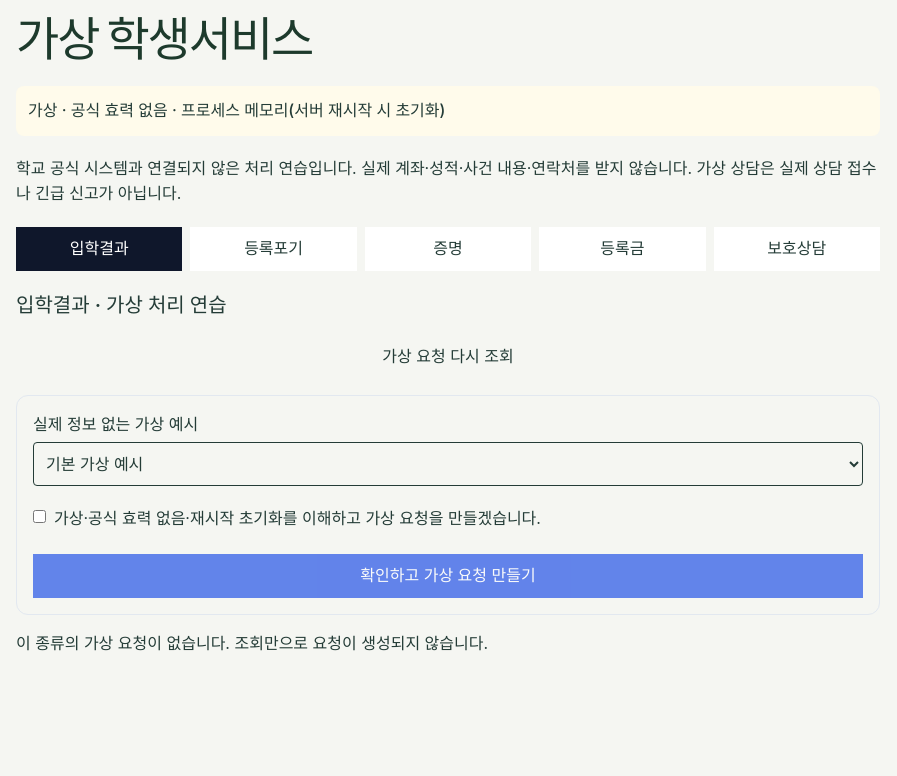
it: DemoStudentServices › creates only after consent and reports completion only after a fresh GET
Expected: the text "이 종류의 가상 요청이 없습니다. 조회만으로 요청이 생성되지 않습니다." is shown, [16, 632, 488, 652]
Select "추가 확인 가상 예시" in the dropdown at [448, 464], box [33, 442, 863, 486]
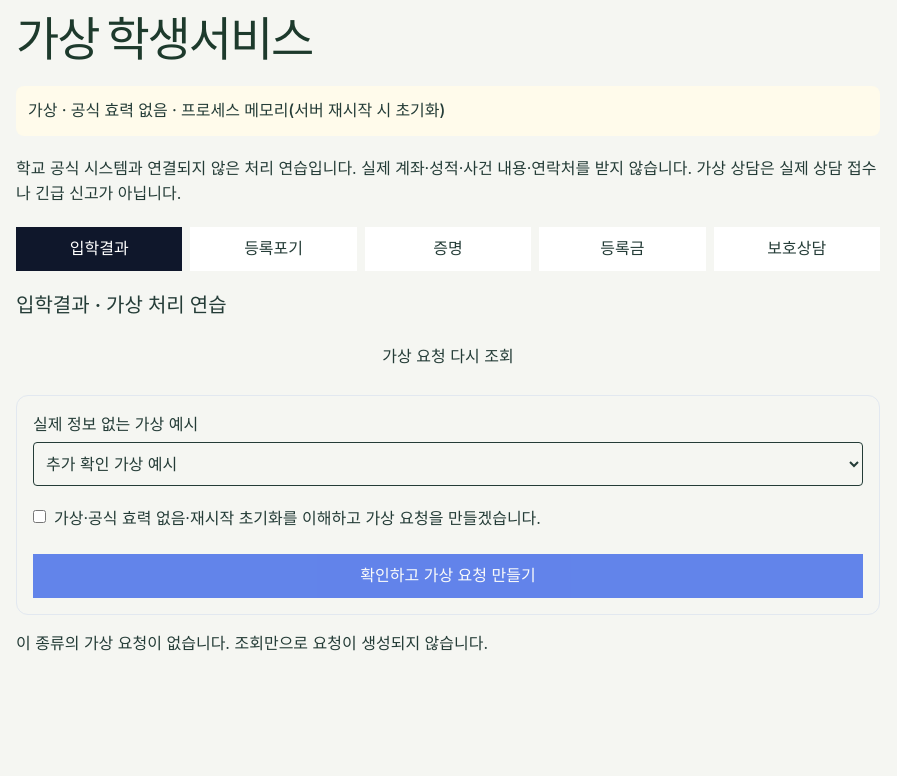
Click the checkbox at [40, 516], box [33, 510, 46, 522]
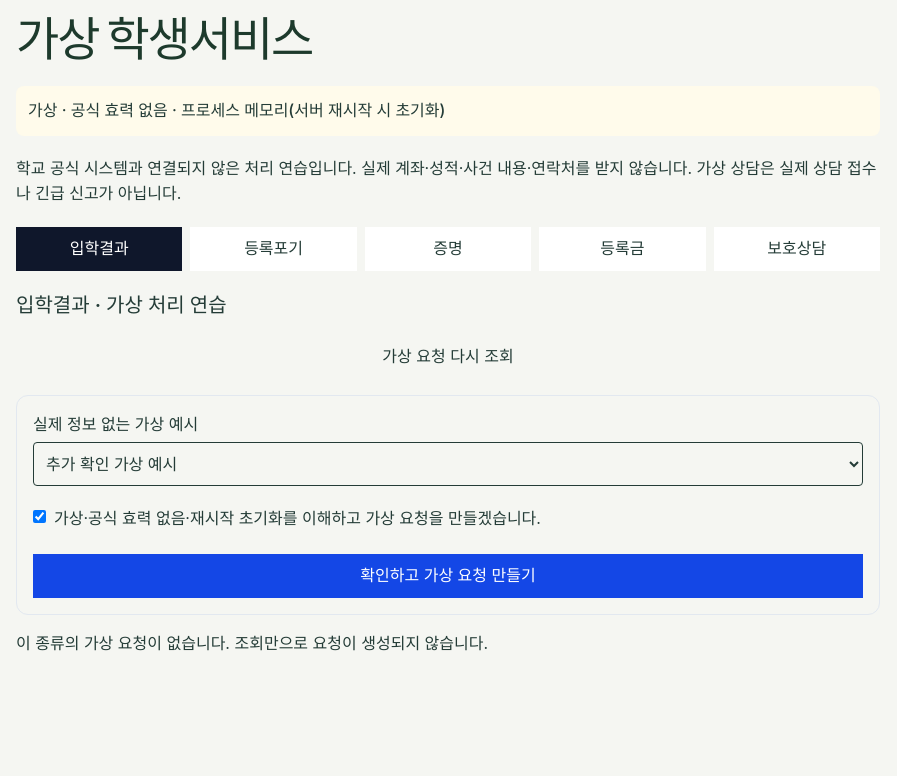
Click the button "확인하고 가상 요청 만들기" at [448, 576], box [33, 554, 863, 598]
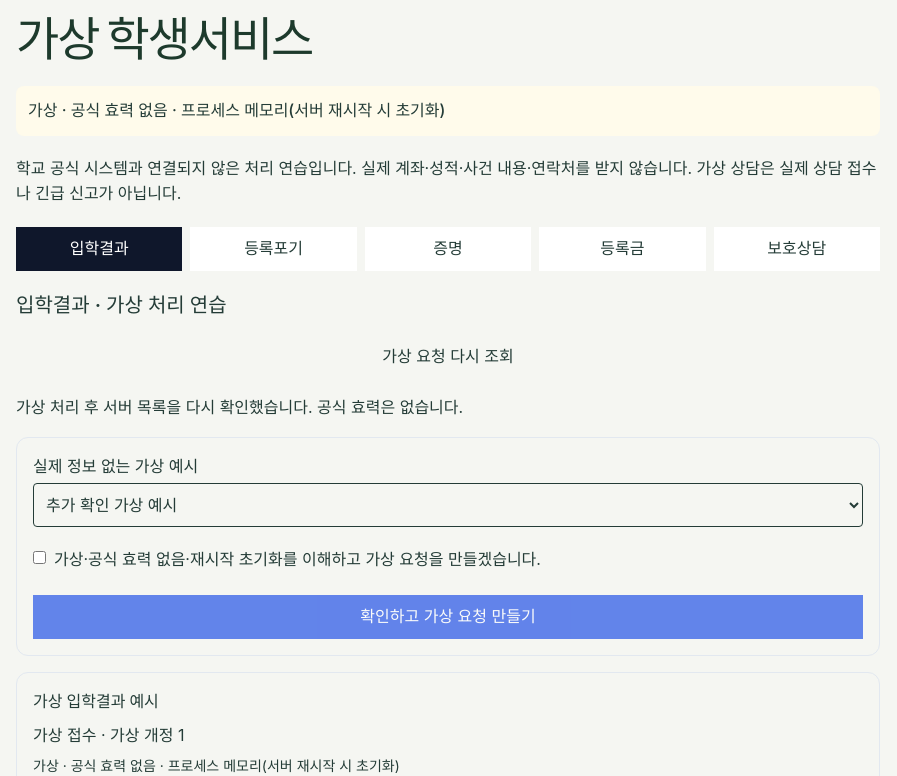
Expected: the text "가상 처리 후 서버 목록을 다시 확인했습니다. 공식 효력은 없습니다." is shown, [16, 397, 463, 417]
Expected: the heading "가상 입학결과 예시" is shown, [33, 691, 159, 711]
